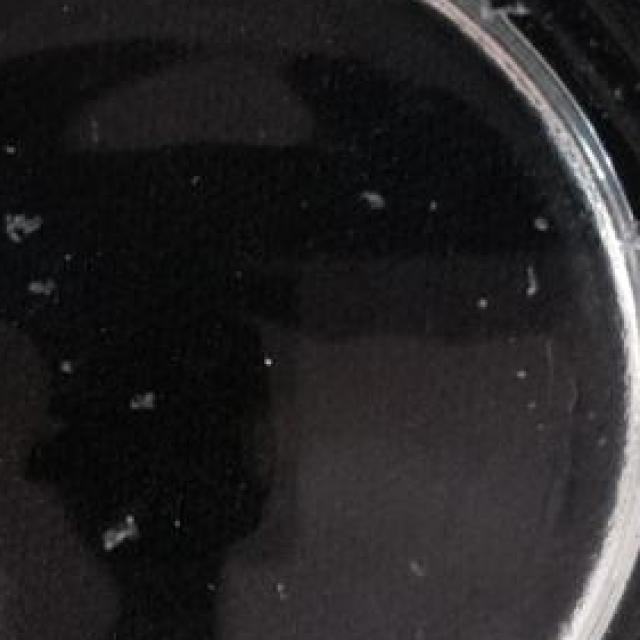Microplastic: (467, 0, 547, 38), (89, 509, 152, 552), (0, 204, 52, 252), (120, 378, 168, 419), (12, 262, 59, 300), (353, 183, 396, 217), (52, 352, 80, 386)
